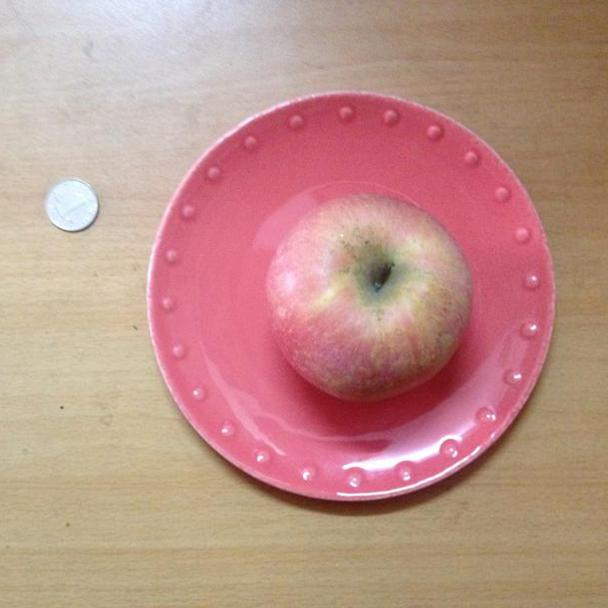apple: (268, 192, 480, 405)
